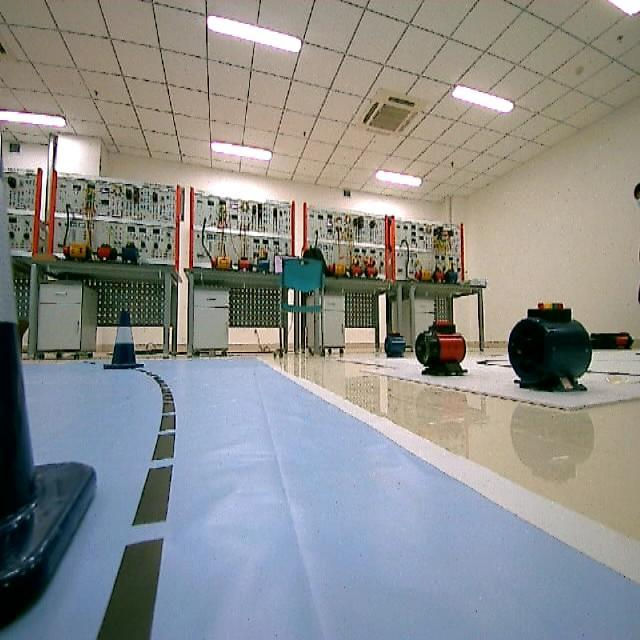obstacle: (106, 311, 154, 374)
